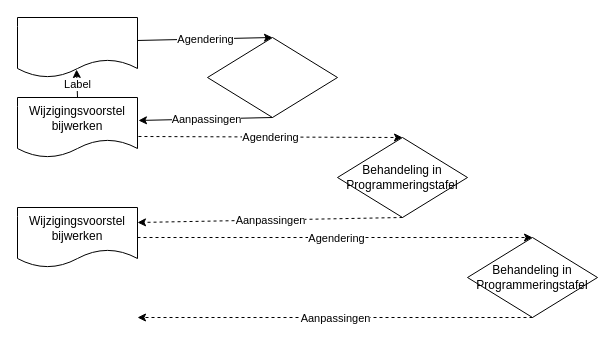
Some shapes in this 615 by 343 pixel diagram are drawn without their labels. The centre of each missing label's shape, as x and y in pixels:
"Behandeling in Technisch Overleg" belongs at (x=272, y=77).
"Wijzigingsvoorstel in behandeling nemen" belongs at (x=77, y=47).
